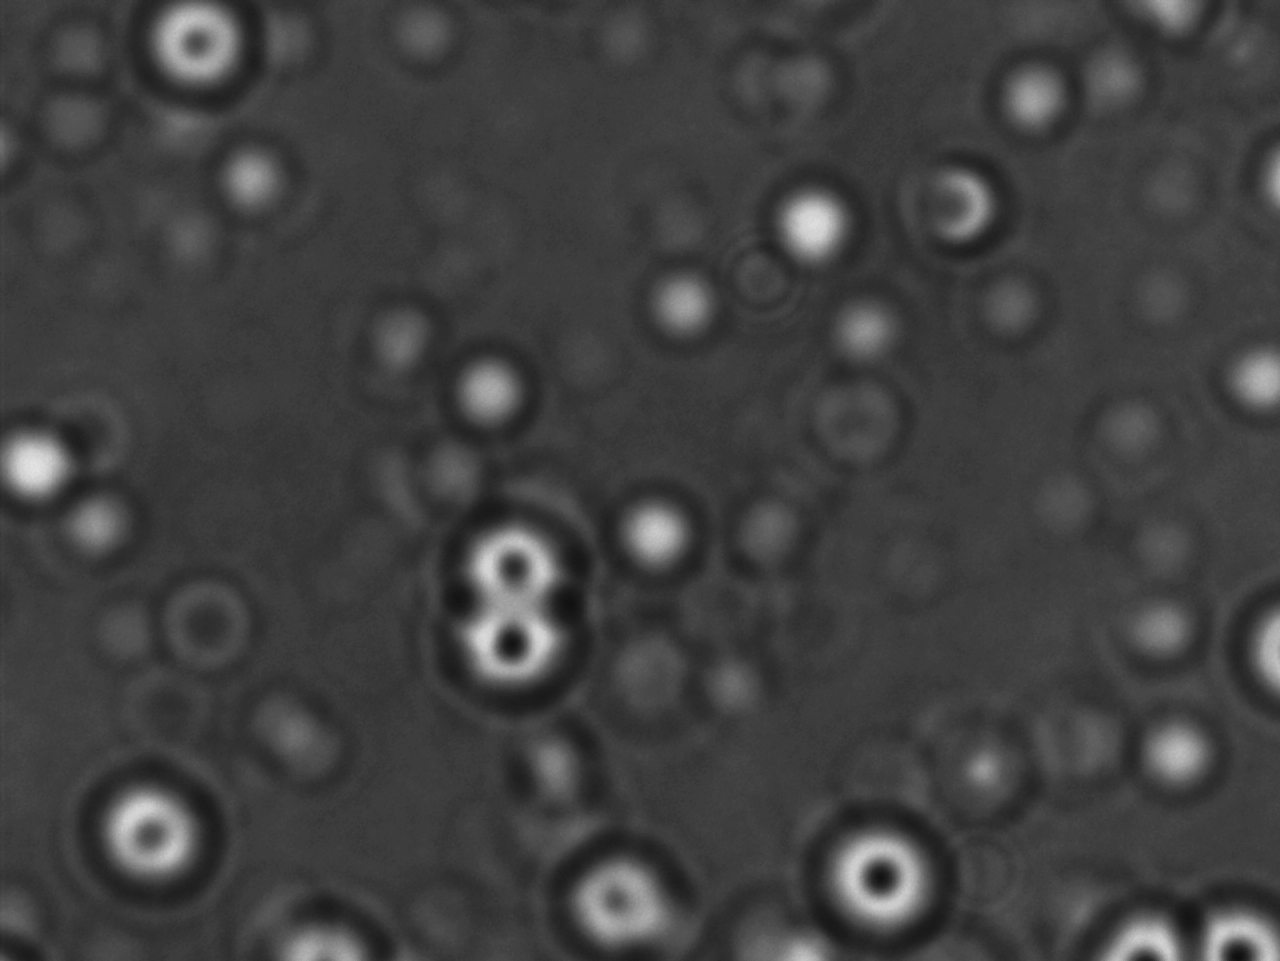depth:32: (68, 755, 241, 910), (433, 584, 591, 736), (798, 806, 949, 940), (448, 491, 583, 617)
